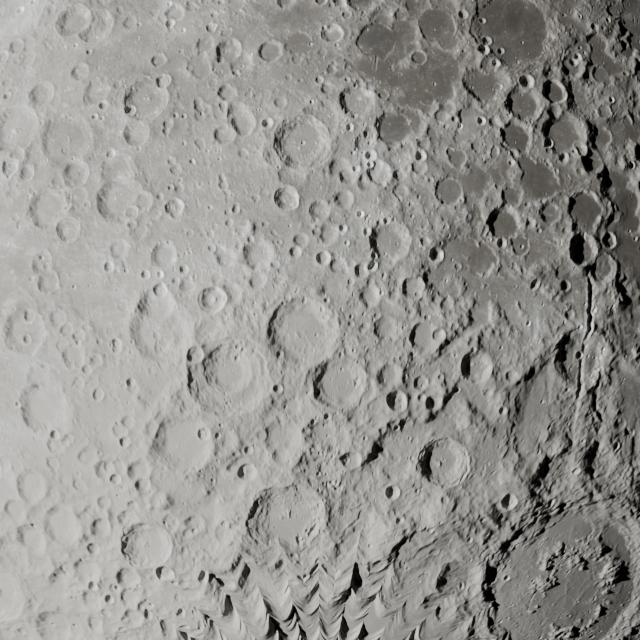crater: (268, 295, 341, 367), (155, 415, 217, 477), (274, 115, 333, 173), (436, 236, 496, 288), (315, 357, 369, 411), (122, 522, 176, 570), (422, 438, 472, 488), (96, 177, 149, 224), (2, 102, 43, 154), (6, 307, 48, 355), (30, 186, 74, 230), (44, 504, 86, 548), (372, 220, 412, 265), (507, 84, 548, 125), (418, 8, 458, 50), (409, 319, 445, 357), (56, 4, 94, 36), (245, 237, 277, 272), (17, 469, 49, 503), (491, 207, 523, 240), (227, 102, 259, 135), (121, 119, 152, 150), (282, 32, 314, 60), (435, 178, 464, 207), (199, 286, 229, 313), (543, 77, 570, 105), (273, 185, 300, 211), (217, 281, 244, 307), (29, 81, 55, 107), (218, 37, 244, 62), (367, 159, 392, 185), (377, 363, 402, 388), (31, 251, 56, 276), (194, 34, 218, 59), (258, 40, 284, 63), (319, 222, 342, 246), (182, 514, 205, 538), (445, 148, 468, 172), (403, 276, 426, 299), (109, 238, 132, 260), (309, 200, 332, 222), (322, 22, 345, 44), (164, 156, 185, 180), (164, 197, 186, 219), (214, 123, 236, 145), (540, 203, 562, 224), (2, 157, 21, 180), (335, 190, 355, 210), (236, 462, 256, 482), (70, 62, 90, 82), (49, 309, 69, 328), (218, 82, 238, 101), (499, 492, 519, 511), (111, 421, 130, 440), (353, 260, 372, 279), (600, 230, 618, 250), (177, 276, 196, 294), (77, 447, 96, 465), (187, 346, 205, 364), (427, 247, 445, 265), (517, 72, 535, 90), (19, 162, 35, 182), (192, 98, 209, 116), (8, 38, 26, 55), (384, 484, 401, 502), (155, 73, 173, 89), (512, 240, 530, 256), (153, 282, 170, 298), (503, 368, 520, 384), (108, 337, 123, 355), (150, 53, 168, 68), (293, 233, 309, 249), (315, 250, 331, 266), (347, 452, 363, 468), (122, 14, 138, 30), (411, 50, 427, 66), (217, 173, 230, 191), (79, 359, 91, 377), (289, 245, 303, 259), (196, 427, 210, 441), (413, 148, 427, 162), (556, 151, 570, 165), (123, 103, 137, 117), (92, 387, 105, 402), (325, 62, 339, 75), (274, 96, 288, 109), (102, 260, 115, 274), (261, 116, 274, 130), (477, 43, 491, 56), (559, 279, 572, 292), (110, 472, 122, 486), (230, 203, 242, 215), (271, 383, 283, 395), (205, 22, 218, 33), (139, 269, 151, 280), (178, 263, 189, 275), (165, 18, 177, 29), (475, 115, 487, 126), (480, 35, 492, 46), (105, 148, 116, 159), (344, 122, 354, 133), (496, 46, 505, 56), (355, 210, 365, 218), (188, 157, 197, 165), (524, 319, 532, 328), (478, 16, 487, 24), (608, 95, 616, 104)
rock: (386, 389, 408, 413), (91, 516, 110, 538), (36, 274, 55, 295), (116, 567, 134, 586), (160, 118, 177, 138), (133, 476, 150, 494), (125, 377, 136, 389), (49, 429, 59, 441)
